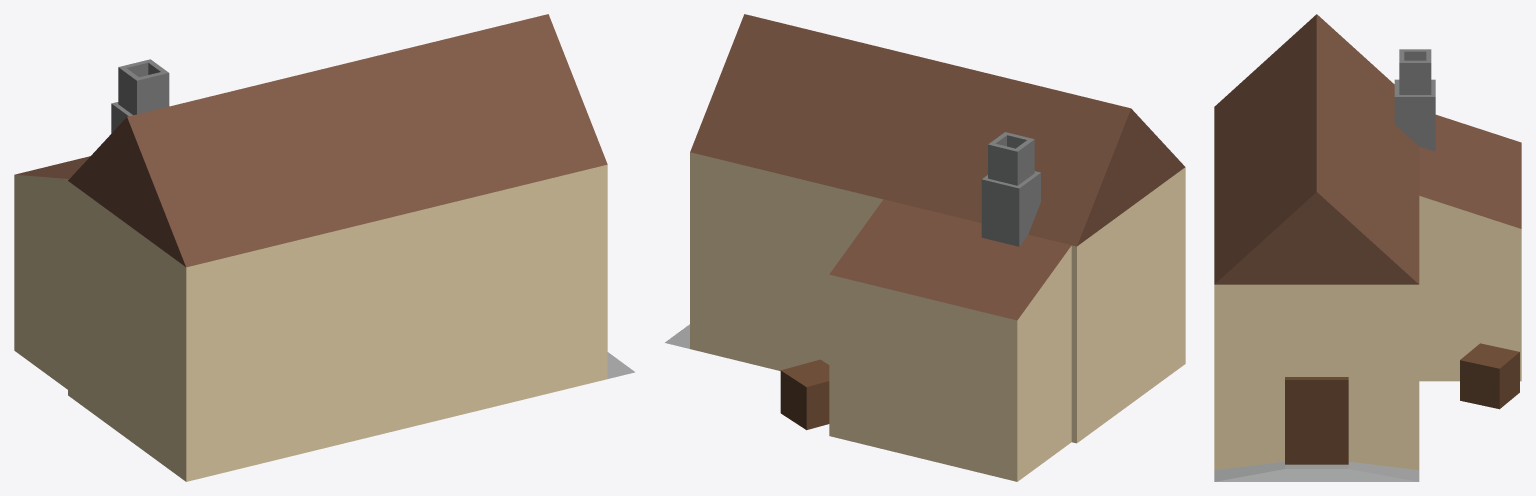
The model's file is houseA.fbx.
The picture shows the model from 3 angles, left to right: view 1: azimuth 30°, elevation 25°; view 2: azimuth 150°, elevation 25°; view 3: azimuth 270°, elevation 25°; orthographic projection. The views are drawn at different scales.
Visible parts, largest first — view 1: House A.001; view 2: House A.001; view 3: House A.001.
Part boxes in pixels (x1,y1,x2,y2): House A.001: (14, 14, 634, 481); House A.001: (665, 14, 1185, 481); House A.001: (1214, 14, 1521, 481).
Bounding box in the file's own units: 438 × 300 × 300.
Materials: 1 (1 with a texture image).
